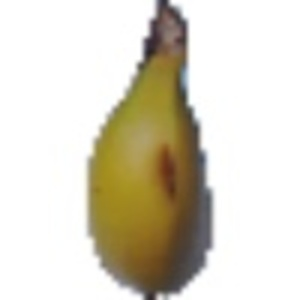banana: (81, 5, 235, 292)
